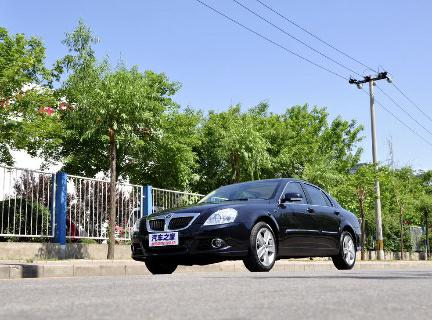中华-尊驰: (121, 171, 371, 280)
